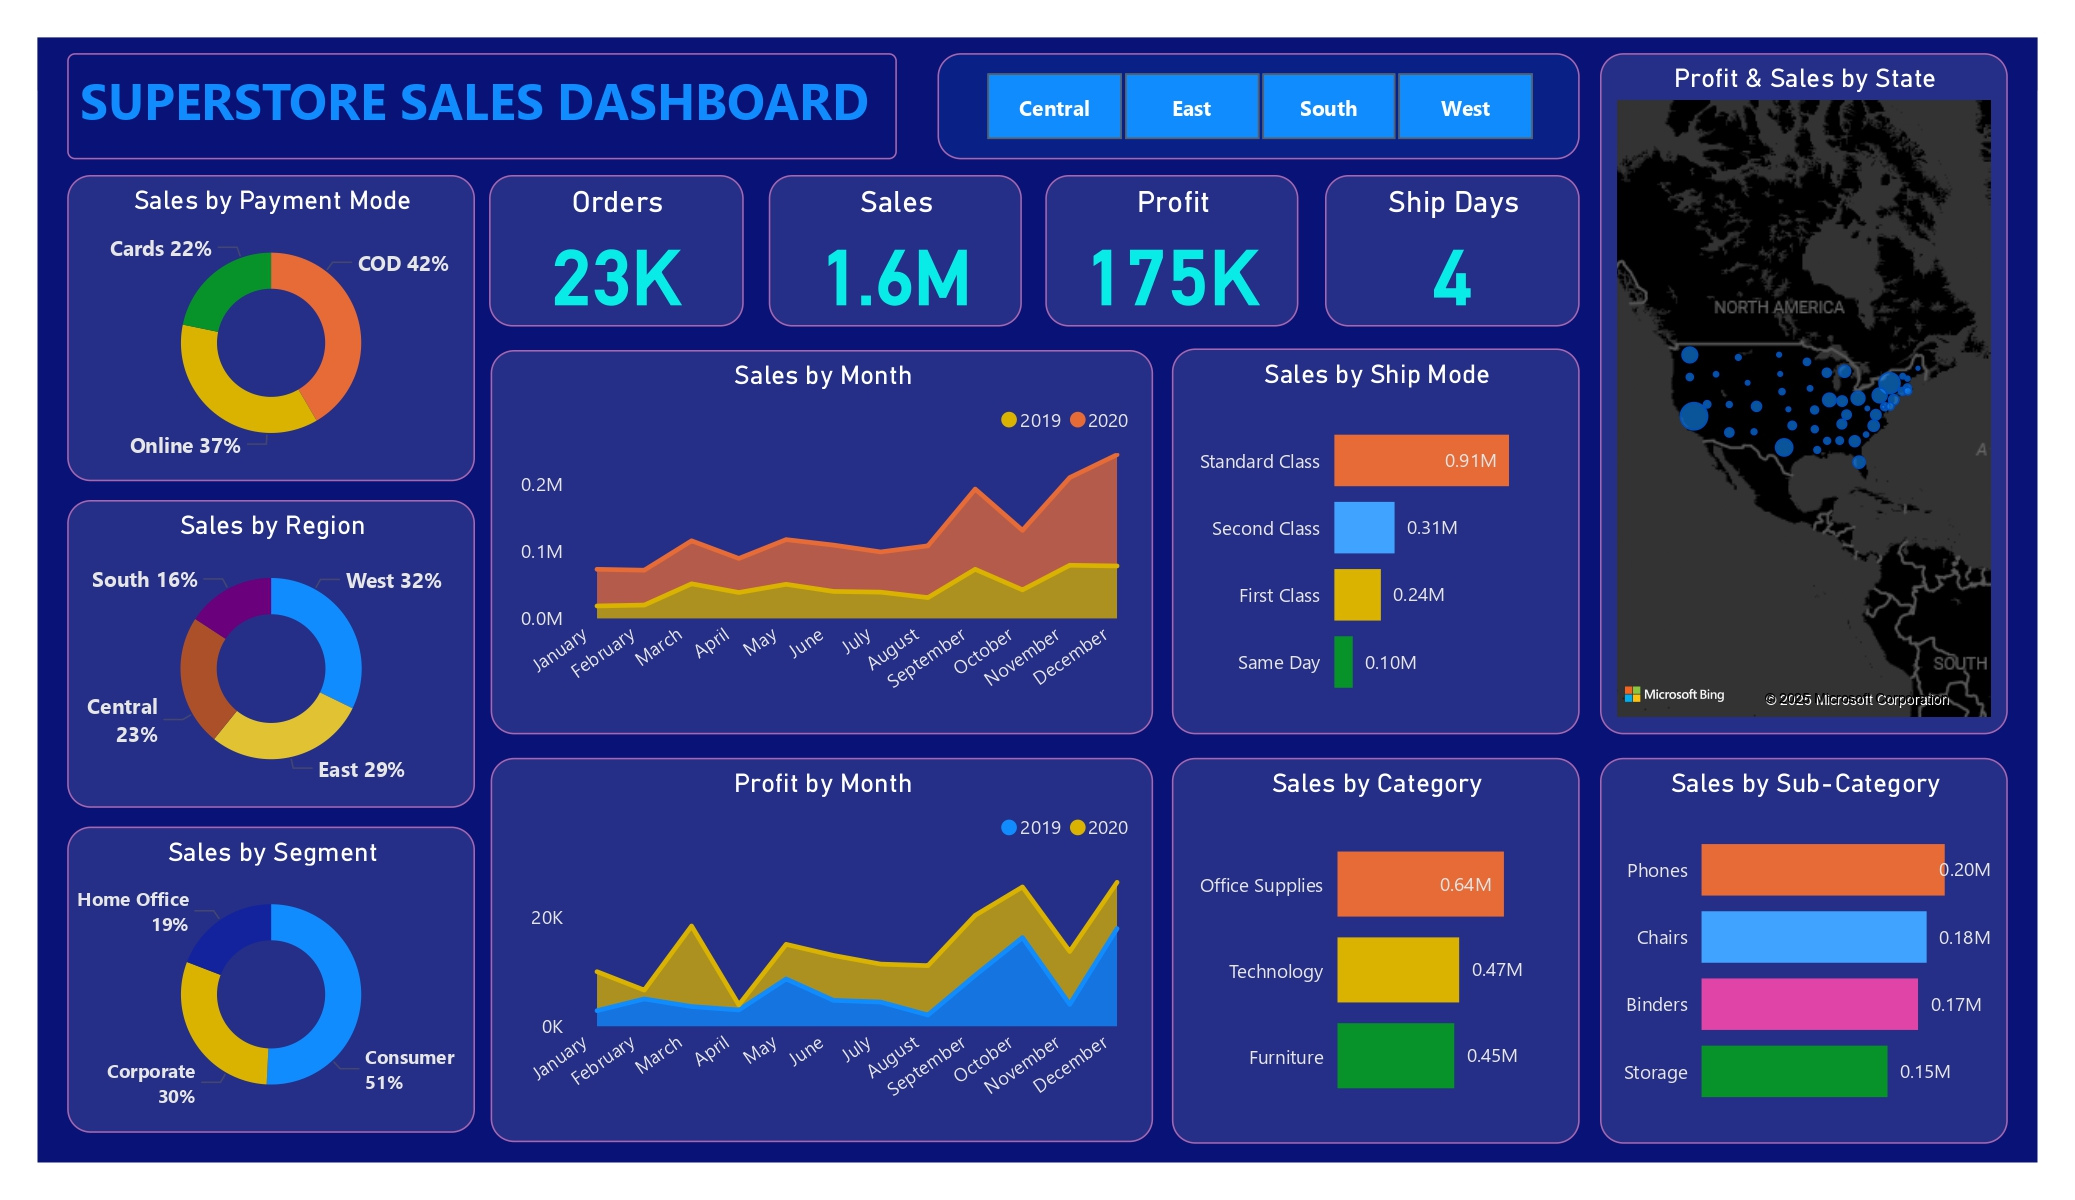

What the dashboard file says about the page in this screenshot:
{"tool":"powerbi","page":{"name":"Page 1","canvas":[1280,720],"ordinal":0},"visuals":[{"type":"clusteredBarChart","title":"Sales by Category","fields":{"Category":["SuperStore_Sales_Dataset.Category"],"Y":["Sum(SuperStore_Sales_Dataset.Sales)"]},"box":[725.9,461.1,260.7,247],"z":0},{"type":"clusteredBarChart","title":"Sales by Sub-Category","fields":{"Y":["Sum(SuperStore_Sales_Dataset.Sales)"],"Category":["SuperStore_Sales_Dataset.Sub-Category"]},"box":[1000.3,461.1,260.7,247],"z":1000},{"type":"textbox","box":[19.2,9.6,531,68.6],"z":2000},{"type":"donutChart","title":"Sales by Payment Mode","fields":{"Y":["Sum(SuperStore_Sales_Dataset.Sales)"],"Category":["SuperStore_Sales_Dataset.Payment Mode"]},"box":[19.2,87.8,260.7,196],"z":3000},{"type":"donutChart","title":"Sales by Region","fields":{"Y":["Sum(SuperStore_Sales_Dataset.Sales)"],"Category":["SuperStore_Sales_Dataset.Region"]},"box":[19.2,296.4,260.7,196.2],"z":4000},{"type":"donutChart","title":"Sales by Segment","fields":{"Y":["Sum(SuperStore_Sales_Dataset.Sales)"],"Category":["SuperStore_Sales_Dataset.Segment"]},"box":[19.2,505,260.7,196],"z":5000},{"type":"clusteredBarChart","title":"Sales by Ship Mode","fields":{"Y":["Sum(SuperStore_Sales_Dataset.Sales)"],"Category":["SuperStore_Sales_Dataset.Ship Mode"]},"box":[725.9,199,260.7,247],"z":6000},{"type":"stackedAreaChart","title":"Profit by Month","fields":{"Y":["Sum(SuperStore_Sales_Dataset.Profit)"],"Series":["SuperStore_Sales_Dataset.Order Date.Variation.Date Hierarchy.Year"],"Category":["SuperStore_Sales_Dataset.Order Date.Variation.Date Hierarchy.Month"]},"box":[289.5,461.1,424,245.6],"z":7000},{"type":"stackedAreaChart","title":"Sales by Month","fields":{"Series":["SuperStore_Sales_Dataset.Order Date.Variation.Date Hierarchy.Year"],"Category":["SuperStore_Sales_Dataset.Order Date.Variation.Date Hierarchy.Month"],"Y":["Sum(SuperStore_Sales_Dataset.Sales)"]},"box":[289.5,200.3,424,245.6],"z":8000},{"type":"card","title":"Sales","fields":{"Values":["Sum(SuperStore_Sales_Dataset.Sales)"]},"box":[467.9,87.8,161.9,97.4],"z":9000},{"type":"card","title":"Profit","fields":{"Values":["Sum(SuperStore_Sales_Dataset.Profit)"]},"box":[644.9,87.8,161.9,97.4],"z":10000},{"type":"slicer","fields":{"Values":["SuperStore_Sales_Dataset.Region"]},"box":[576.3,9.6,410.3,68.6],"z":11000},{"type":"map","title":"Profit & Sales by State","fields":{"Category":["SuperStore_Sales_Dataset.State"],"Size":["Sum(SuperStore_Sales_Dataset.Sales)"]},"box":[1000.3,9.6,260.7,436.4],"z":12000},{"type":"card","title":"Orders","fields":{"Values":["Sum(SuperStore_Sales_Dataset.AvgDelivery)"]},"box":[289.3,88.4,162.2,96.8],"z":13000},{"type":"card","title":"Ship Days","fields":{"Values":["Avg(SuperStore_Sales_Dataset.AvgDelivery)"]},"box":[824.3,88.4,162.2,96.8],"z":14000}]}

Visuals, with their boxes on the page's 1280x720 design canvas (x1, y1, x2, y2). These are canvas units, not pixel positions in the 2075x1200 screenshot, which may show the page scaled, cropped or inside an application window:
"Sales by Category" clusteredBarChart: region(726, 461, 987, 708)
"Sales by Sub-Category" clusteredBarChart: region(1000, 461, 1261, 708)
textbox: region(19, 10, 550, 78)
"Sales by Payment Mode" donutChart: region(19, 88, 280, 284)
"Sales by Region" donutChart: region(19, 296, 280, 493)
"Sales by Segment" donutChart: region(19, 505, 280, 701)
"Sales by Ship Mode" clusteredBarChart: region(726, 199, 987, 446)
"Profit by Month" stackedAreaChart: region(290, 461, 714, 707)
"Sales by Month" stackedAreaChart: region(290, 200, 714, 446)
"Sales" card: region(468, 88, 630, 185)
"Profit" card: region(645, 88, 807, 185)
slicer - SuperStore_Sales_Dataset.Region: region(576, 10, 987, 78)
"Profit & Sales by State" map: region(1000, 10, 1261, 446)
"Orders" card: region(289, 88, 452, 185)
"Ship Days" card: region(824, 88, 986, 185)
